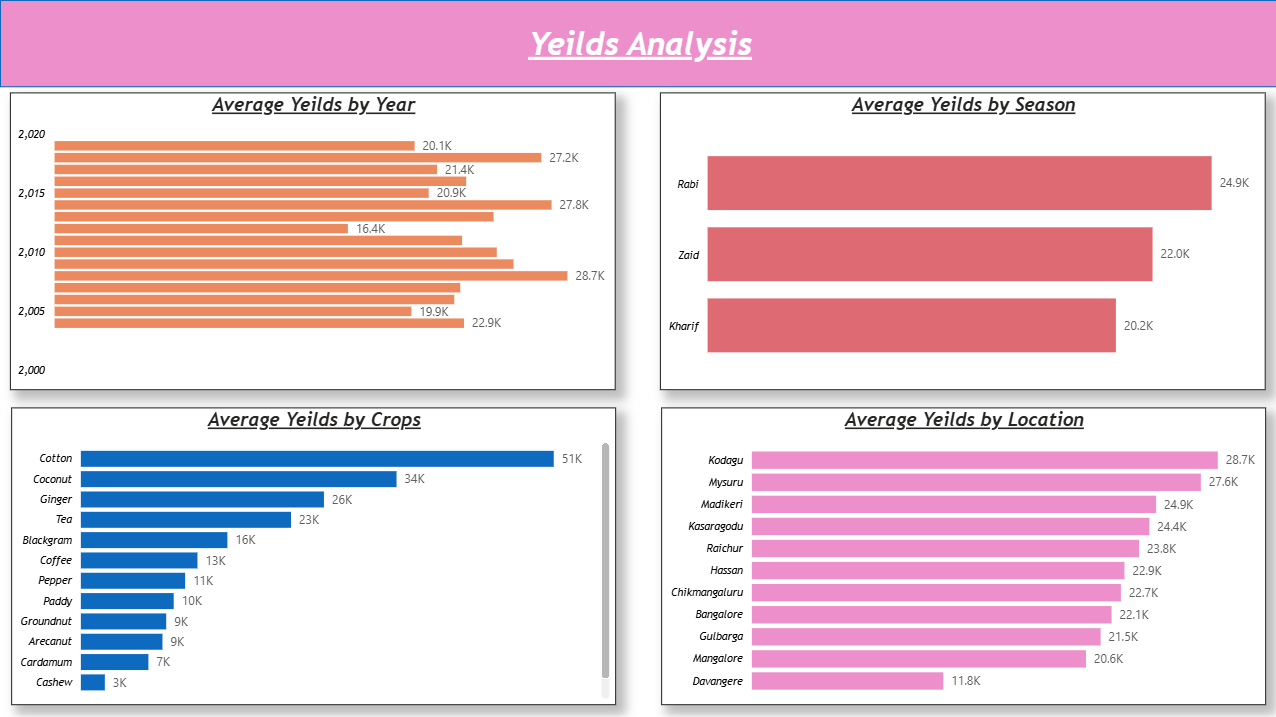

What the dashboard file says about the page in this screenshot:
{"tool":"powerbi","page":{"name":"Yeilds Analysis","canvas":[1280,720],"ordinal":3},"visuals":[{"type":"shape","box":[0,0,1280.2,87.2],"z":0},{"type":"barChart","title":"Average Yeilds by Year","fields":{"Category":["AGRICULTURE.YEAR"],"Y":["Sum(AGRICULTURE.YEILDS)"]},"box":[10.5,93,605.8,297.7],"z":1000},{"type":"barChart","title":"Average Yeilds by Season","fields":{"Category":["AGRICULTURE.SEASON"],"Y":["Sum(AGRICULTURE.YEILDS)"]},"box":[660.5,93,605.8,297.7],"z":2000},{"type":"barChart","title":"Average Yeilds by Crops","fields":{"Category":["AGRICULTURE.CROPS"],"Y":["Sum(AGRICULTURE.YEILDS)"]},"box":[11.6,407,604.7,297.7],"z":3000},{"type":"barChart","title":"Average Yeilds by Location","fields":{"Category":["AGRICULTURE.LOCATION"],"Y":["Sum(AGRICULTURE.YEILDS)"]},"box":[661.6,407,604.7,297.7],"z":4000}]}

Visuals, with their boxes in screenshot pixels (x1, y1, x2, y2), scaled from the page's 1280x720 canvas onto the 1276x717 screenshot:
shape: pyautogui.locateOnScreen(0, 0, 1275, 87)
"Average Yeilds by Year" barChart: pyautogui.locateOnScreen(10, 93, 614, 389)
"Average Yeilds by Season" barChart: pyautogui.locateOnScreen(658, 93, 1262, 389)
"Average Yeilds by Crops" barChart: pyautogui.locateOnScreen(12, 405, 614, 702)
"Average Yeilds by Location" barChart: pyautogui.locateOnScreen(660, 405, 1262, 702)
